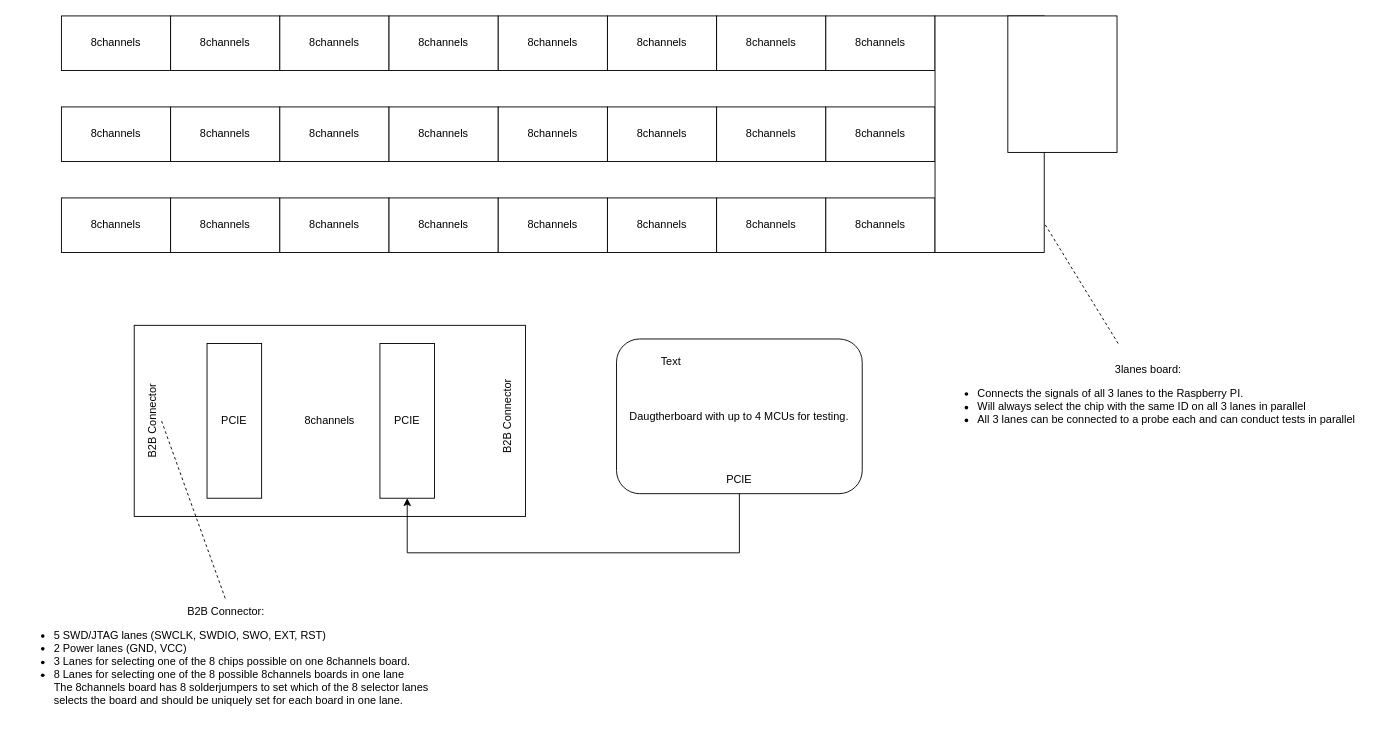
The diagram is 1373 pixels wide and 734 high, and some of its shapes have lost their labels. The shapes that lost their labels are listed below. From the top down, each one's centre as x and y in pixels, then its label:
At pixel 1062 83: "Raspberry PI".
At pixel 989 134: "3lanes".
